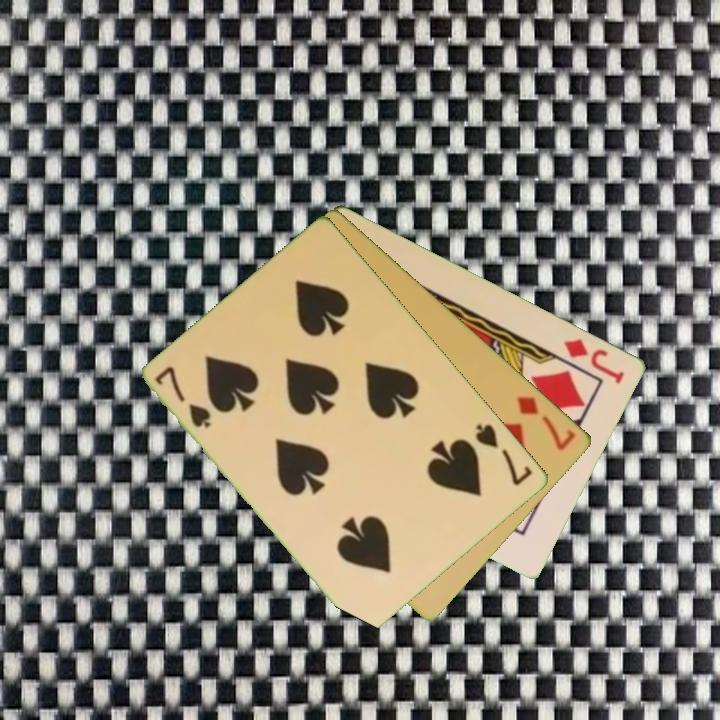7d: (513, 392, 579, 454)
7s: (472, 420, 536, 489), (151, 362, 215, 431)
Jd: (560, 334, 628, 387)
